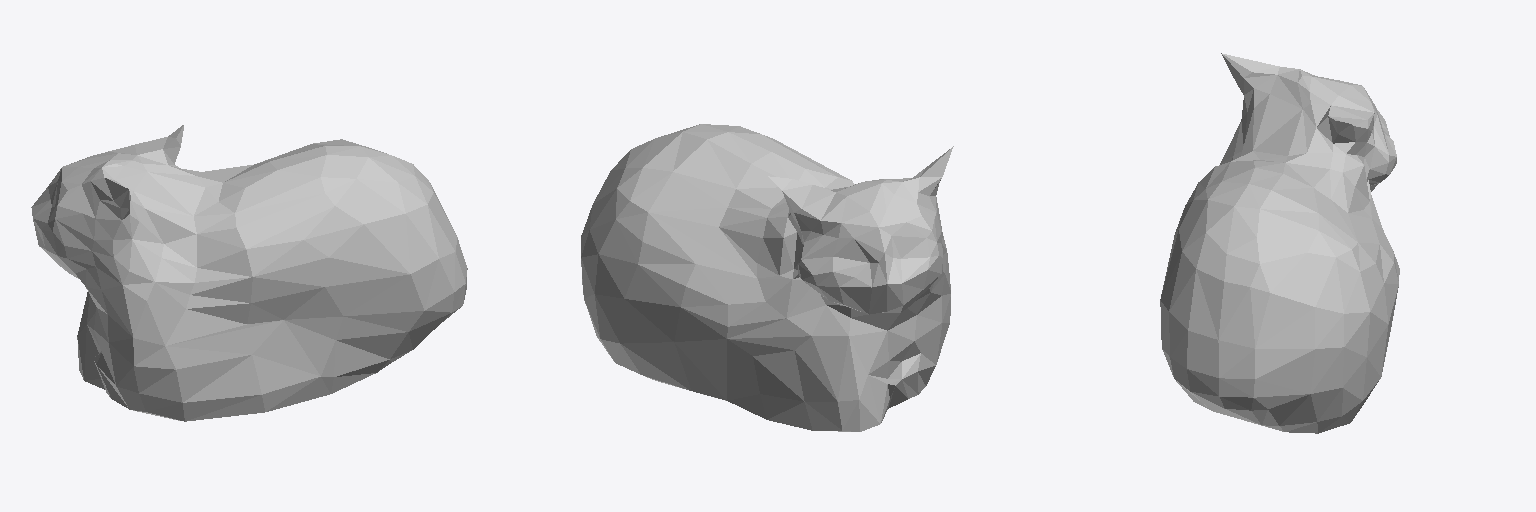
3 renders of one model, left to right at view 1: azimuth 30°, elevation 25°; view 2: azimuth 150°, elevation 25°; view 3: azimuth 270°, elevation 25°, orthographic.
Parts seen in each view (by area): view 1: dingus; view 2: dingus; view 3: dingus.
Boxes of the visible parts, box(x1,y1,x2,y2) form: dingus: box(31, 125, 467, 421); dingus: box(581, 124, 953, 431); dingus: box(1160, 53, 1399, 433).
Size of the model in its own units: 5.19 by 3.35 by 2.87.